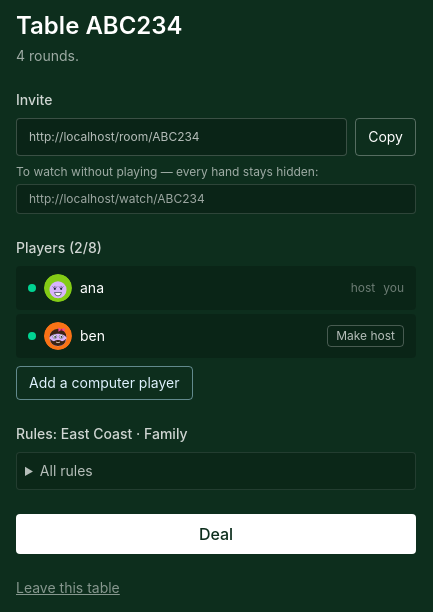
the invite › copies the link and confirms it
What coordinates should you click on to do the following:
click the button "Copy"
I would click on:
 (386, 137)
Its box is [355, 118, 416, 156].
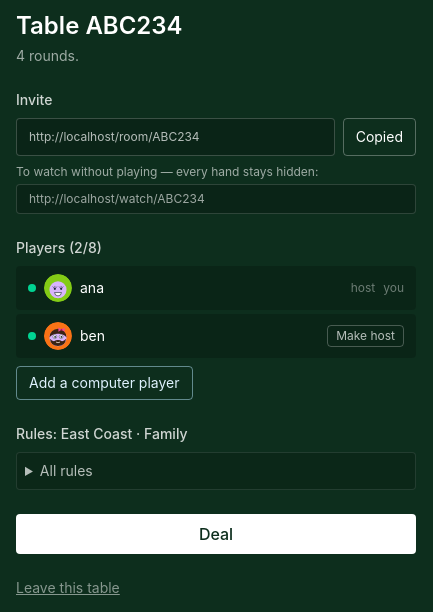
Expected: the button "Copied" is shown, [343, 118, 416, 156]
